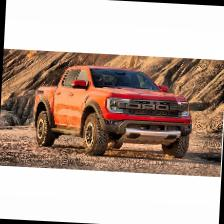NON-EV: (31, 59, 197, 162)
